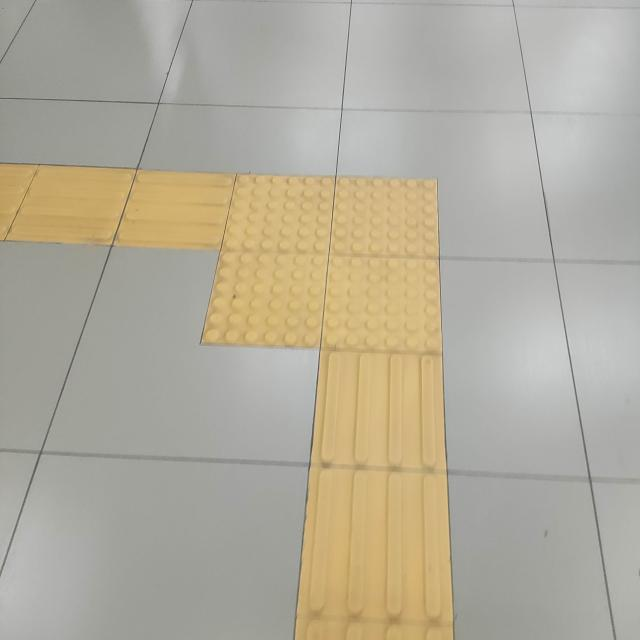kiri: (46, 135, 520, 400)
